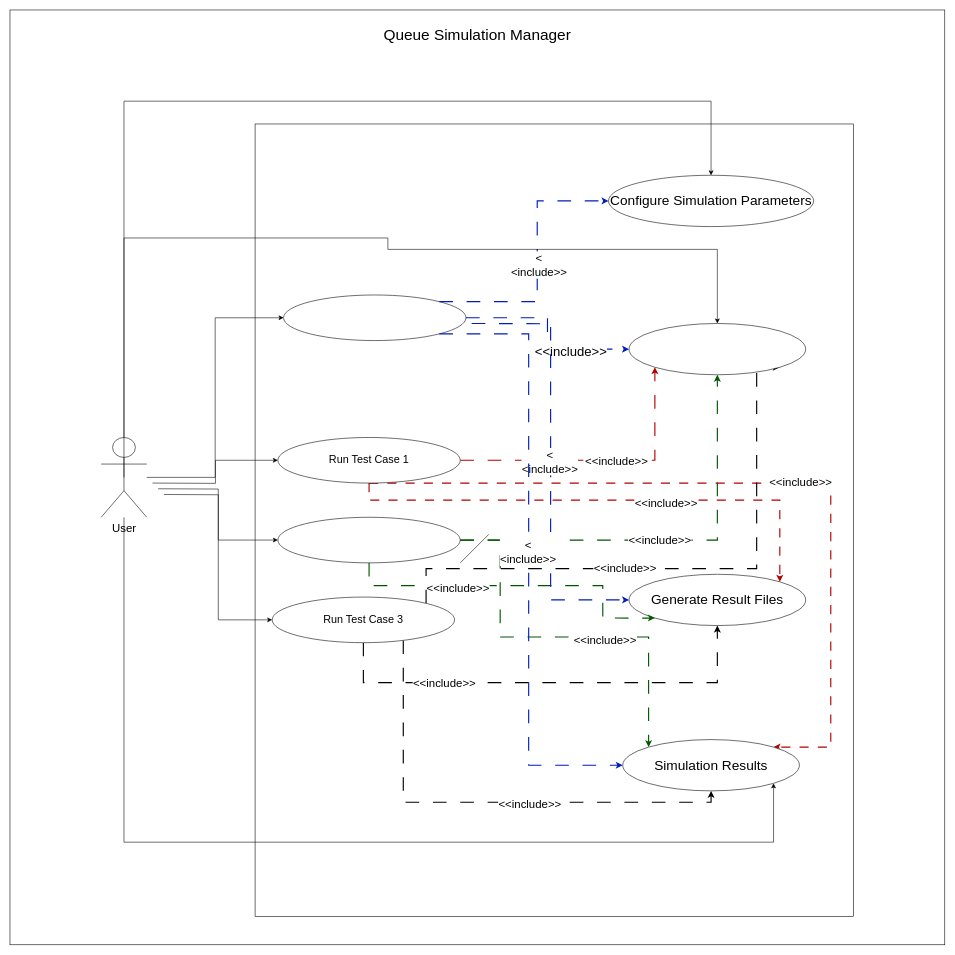
Image size: 955x955. Some labels were removed from this diagram. The shapes that lost their labels are listed below. From the top down, each one's centre as x and y in pixels, then its label:
At point 374,317: "Run Simulation in GUI".
At point 717,349: "Real-Time Queue Status".
At point 368,540: "Run Test Case 2".
